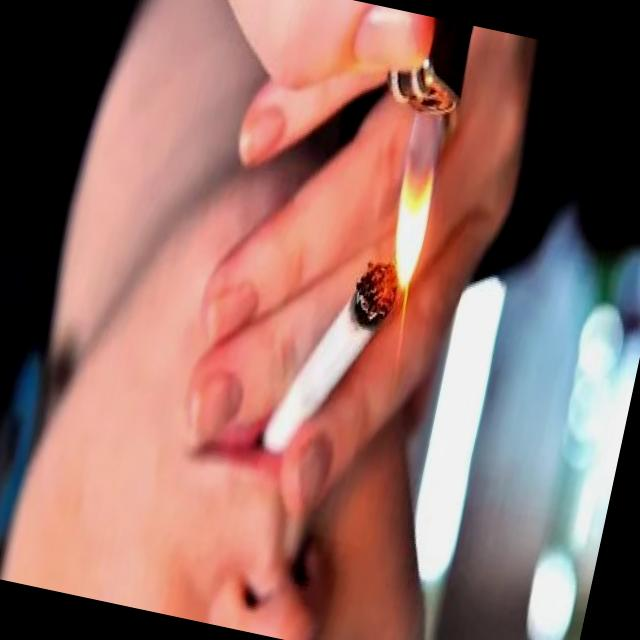smoke: (255, 224, 412, 482)
